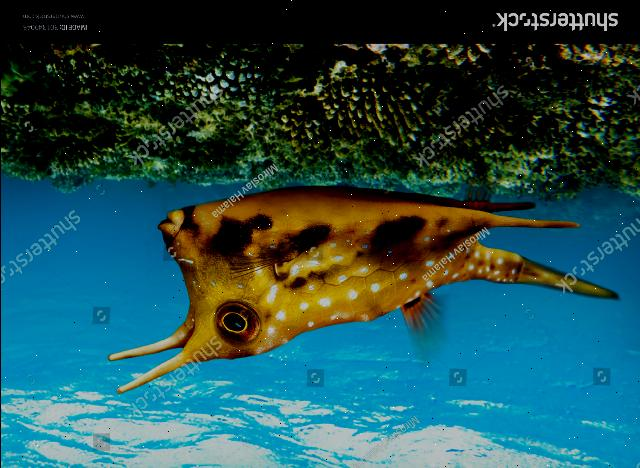Mulut: (138, 190, 195, 264)
Sirip Dada: (212, 217, 340, 297)
